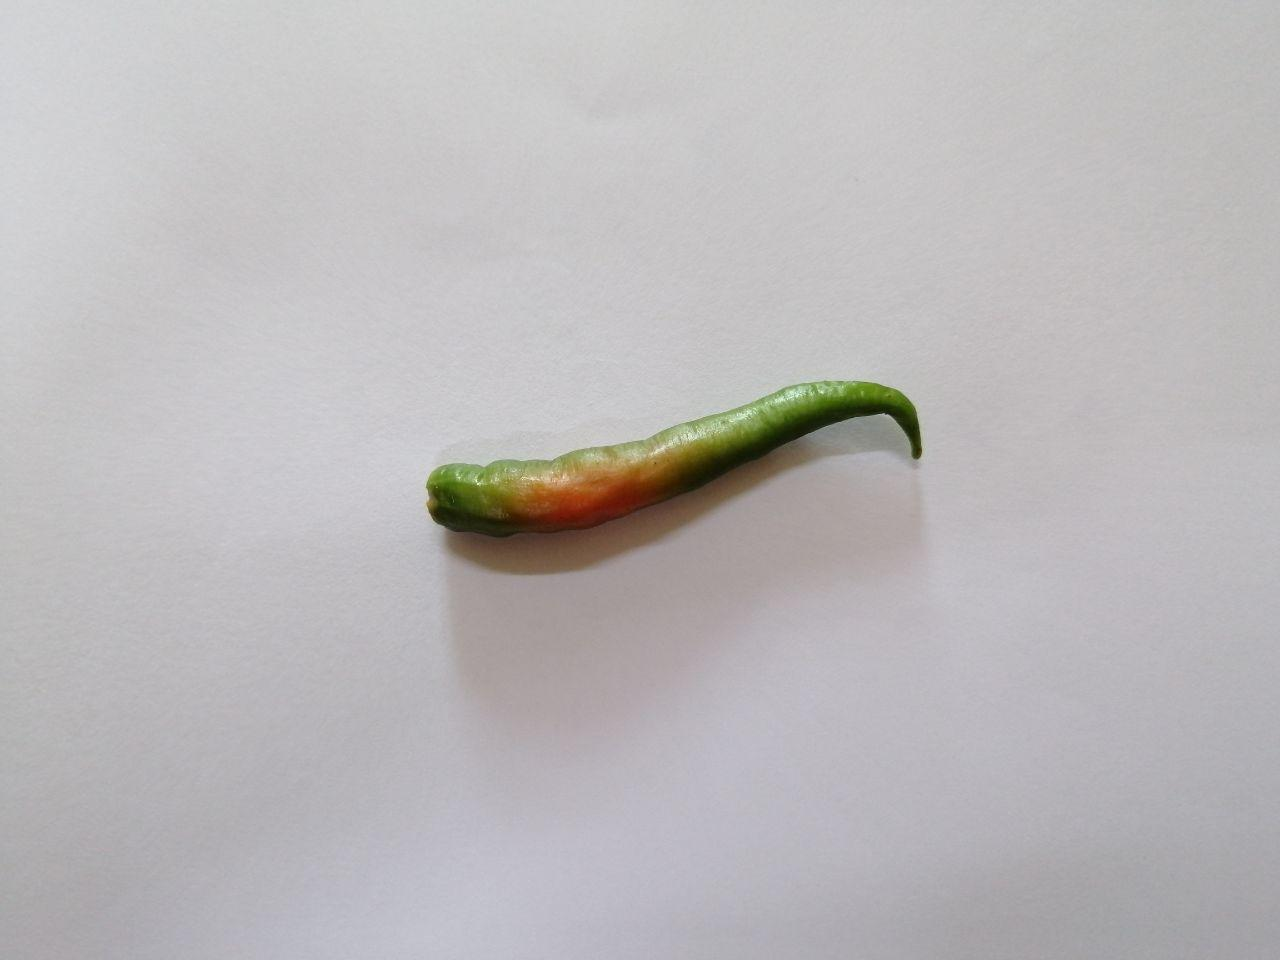lada hijau: (400, 371, 934, 556)
